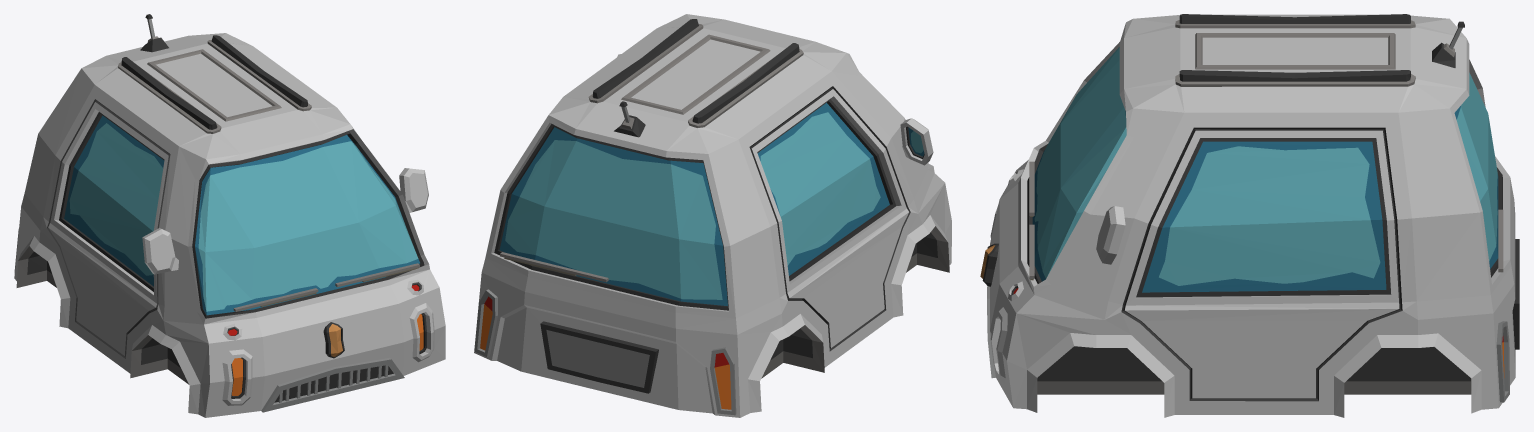
File: Car_C_01.FBX
The picture shows the model from 3 angles, left to right: view 1: azimuth 30°, elevation 25°; view 2: azimuth 150°, elevation 25°; view 3: azimuth 270°, elevation 25°; orthographic projection. The views are drawn at different scales.
Visible parts, largest first — view 1: Car_C_01; view 2: Car_C_01; view 3: Car_C_01.
Part boxes in pixels (bbox=[...]): Car_C_01: bbox=[14, 14, 445, 417]; Car_C_01: bbox=[474, 14, 951, 417]; Car_C_01: bbox=[980, 14, 1519, 417].
Bounding box in the file's own units: 2.79 × 2.31 × 3.63.
